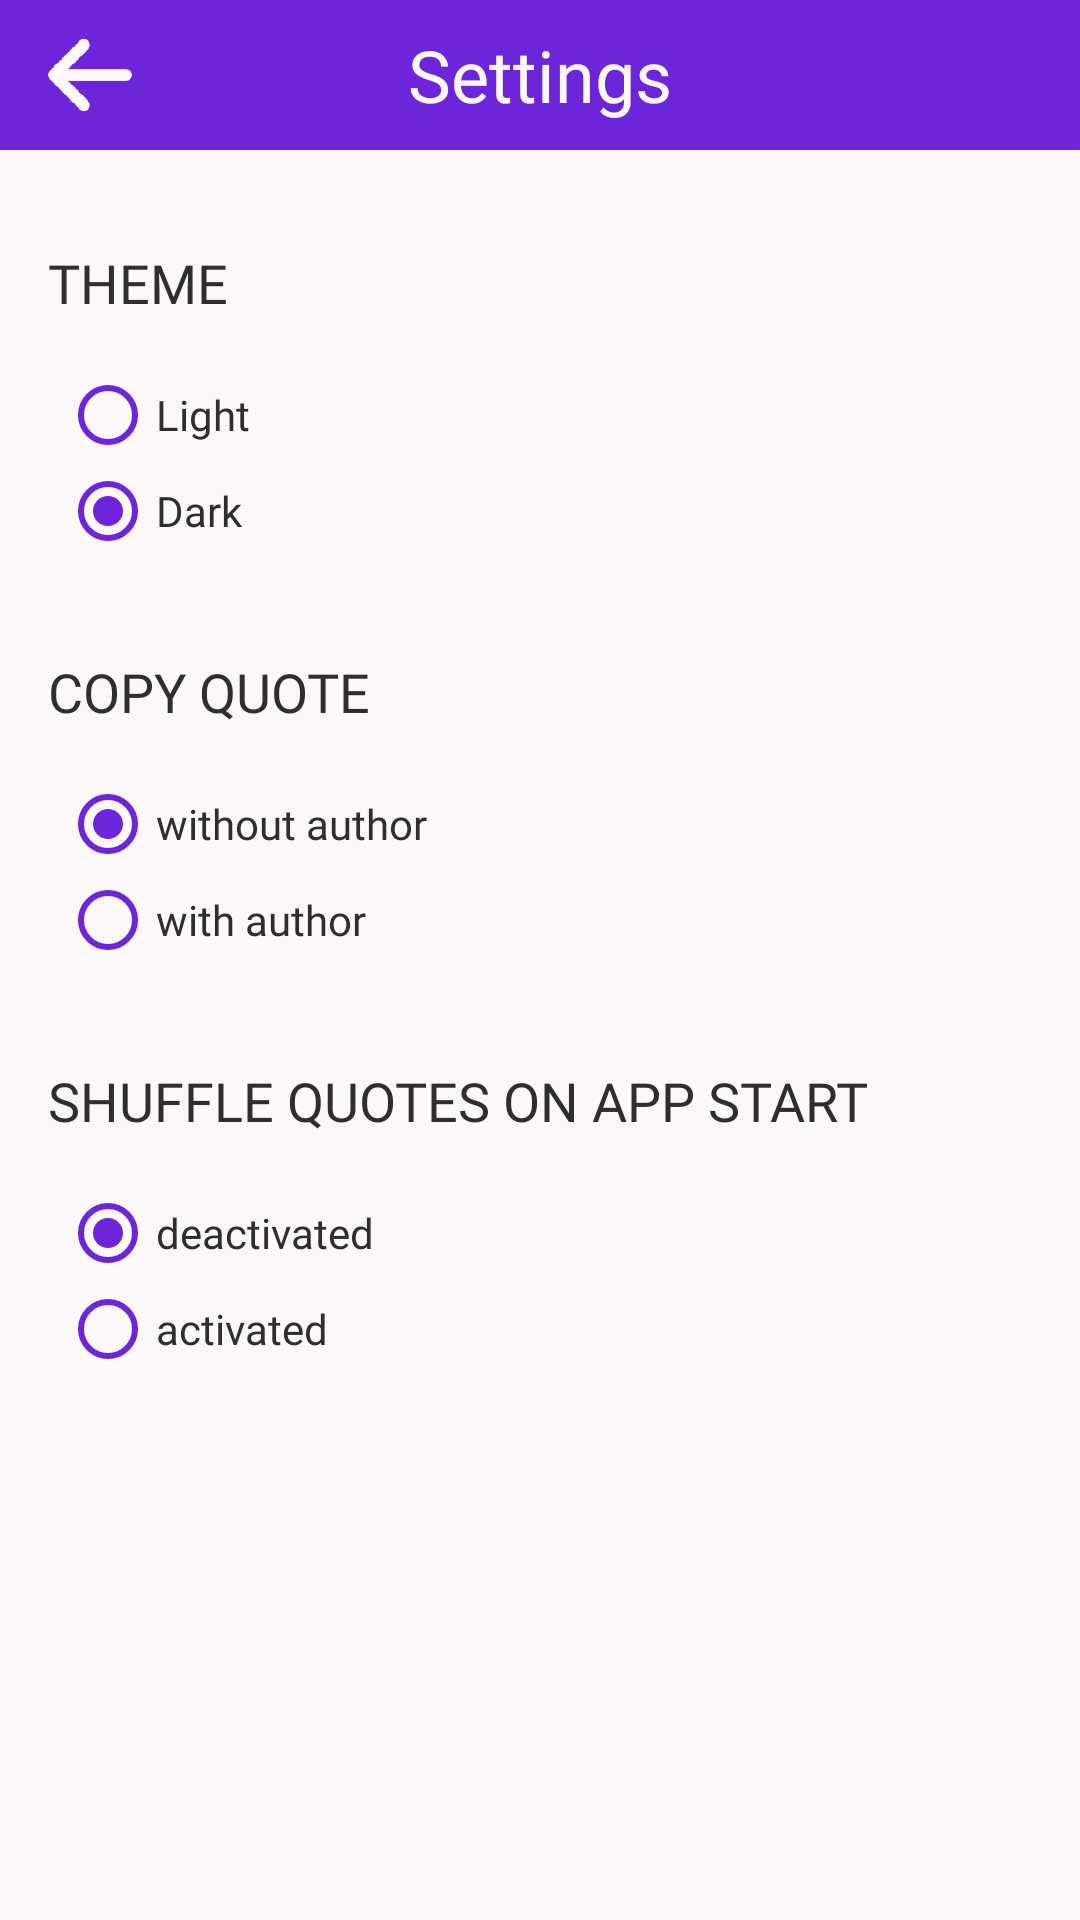

Icons on this 1080*1920 Android screen, each with its box as bbox=[x1, y1, x2, y2]:
up button: bbox=[48, 39, 132, 111]
